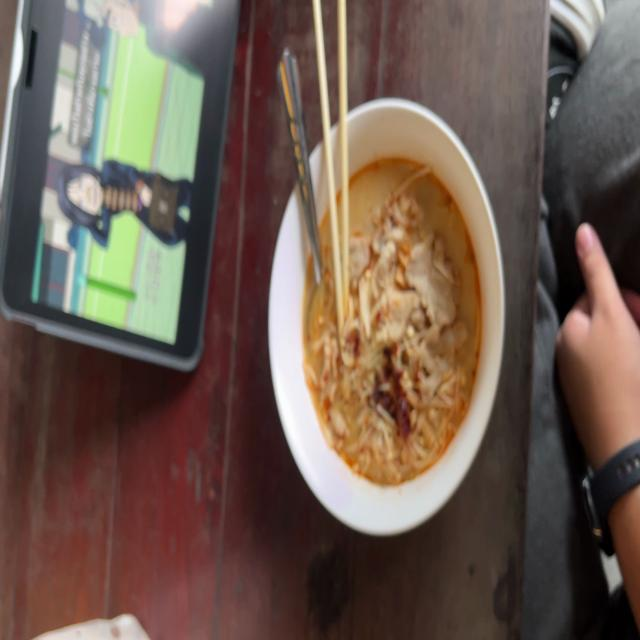noodle: (302, 150, 493, 496)
